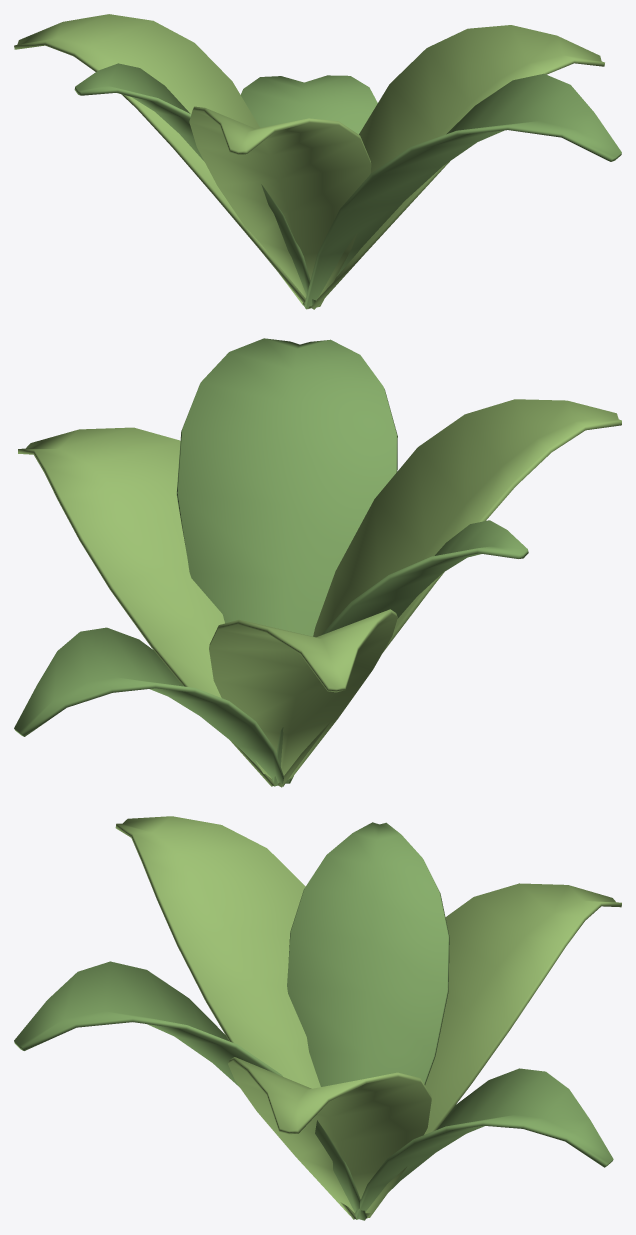
Rendered from Plant_Big.gltf.
The picture shows the model from 3 angles, top to bottom: view 1: azimuth 30°, elevation 25°; view 2: azimuth 150°, elevation 25°; view 3: azimuth 270°, elevation 25°; orthographic projection. The views are drawn at different scales.
Visible parts, largest first — view 1: Plant_Big; view 2: Plant_Big; view 3: Plant_Big.
Boxes of the visible parts, <box> form: Plant_Big: <box>14,14,621,309</box>; Plant_Big: <box>14,338,621,787</box>; Plant_Big: <box>14,816,621,1220</box>.
Bounding box in the file's own units: 1.56 × 0.9057 × 1.61.
